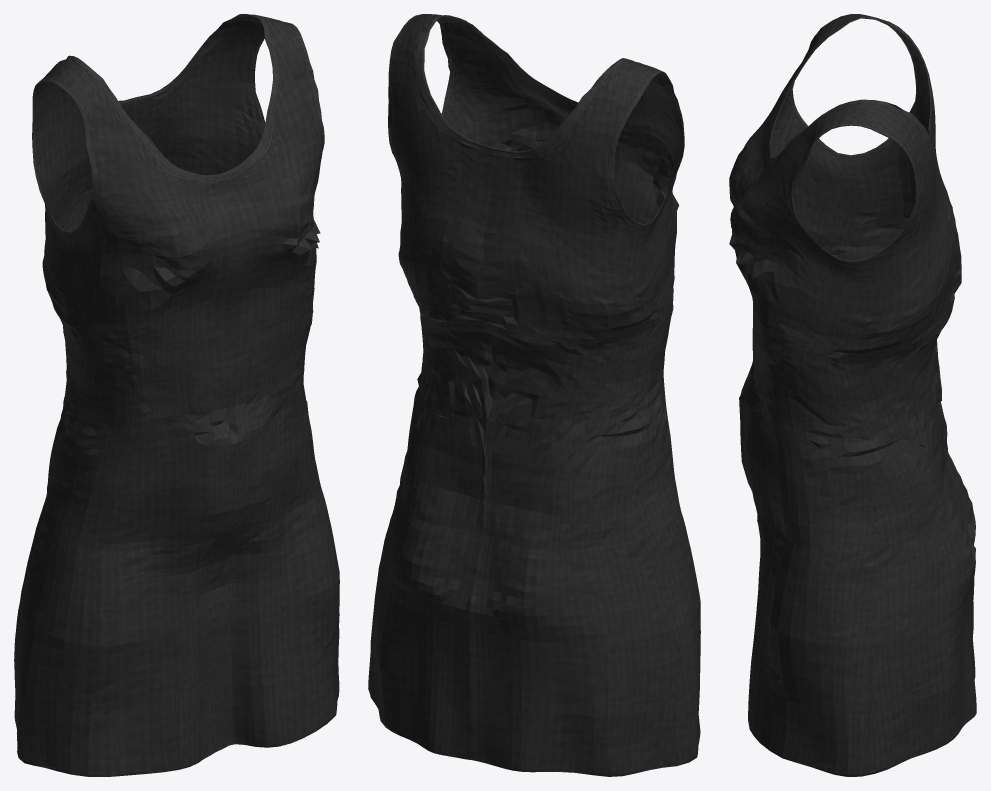
Rendered from mhw_toigo_shift_dress.glb.
3 views of the same model, side by side, from view 1: azimuth 30°, elevation 25°; view 2: azimuth 150°, elevation 25°; view 3: azimuth 270°, elevation 25° (orthographic). The views are drawn at different scales.
Parts seen in each view (by area): view 1: mhw_toigo_shift_dress; view 2: mhw_toigo_shift_dress; view 3: mhw_toigo_shift_dress.
Part boxes in pixels (left/top/right/bottom): mhw_toigo_shift_dress: left=14, top=14, right=339, bottom=776; mhw_toigo_shift_dress: left=368, top=14, right=700, bottom=776; mhw_toigo_shift_dress: left=729, top=14, right=976, bottom=776.
Size of the model in its own units: 0.4737 by 0.9761 by 0.3388.
Materials: 1 (1 with a texture image).
